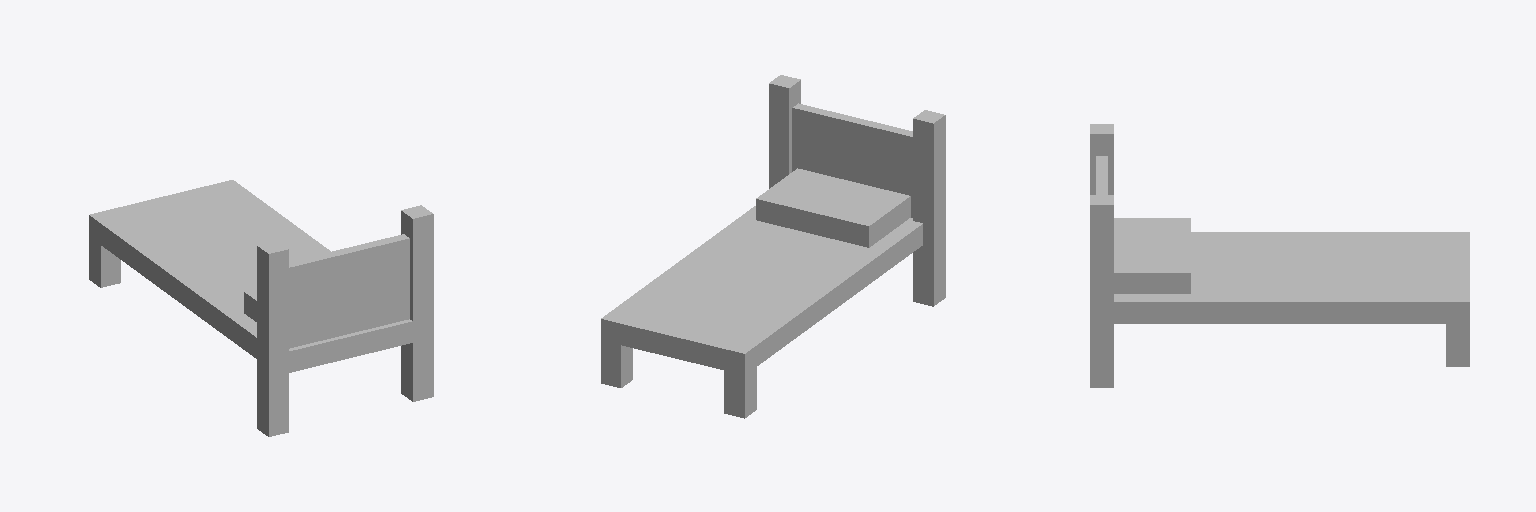
File: cama_solteiro.obj
3 views of the same model, side by side, from view 1: azimuth 30°, elevation 25°; view 2: azimuth 150°, elevation 25°; view 3: azimuth 270°, elevation 25° (orthographic).
Visible parts, largest first — view 1: Block1; view 2: Block1; view 3: Block1.
Part boxes in pixels (bbox=[...]): Block1: bbox=[89, 180, 433, 436]; Block1: bbox=[601, 75, 945, 418]; Block1: bbox=[1090, 124, 1469, 387].
Bounding box in the file's own units: 1 × 1.06 × 2.